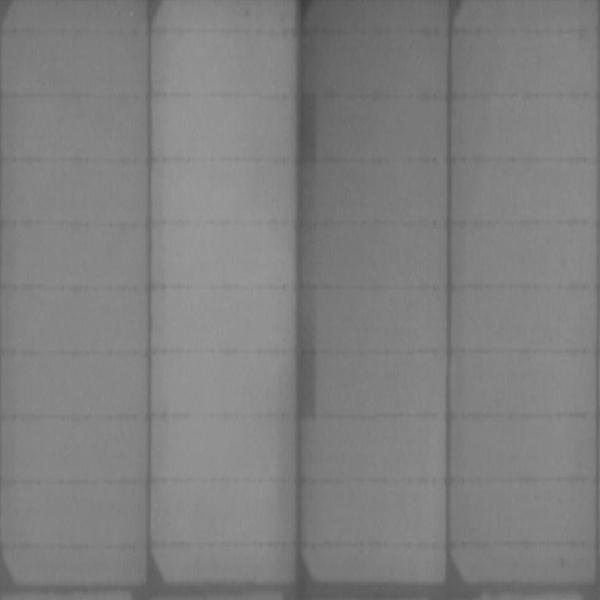black_border: (294, 88, 316, 425)
